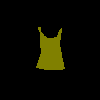canottiera: (36, 26, 64, 70)
